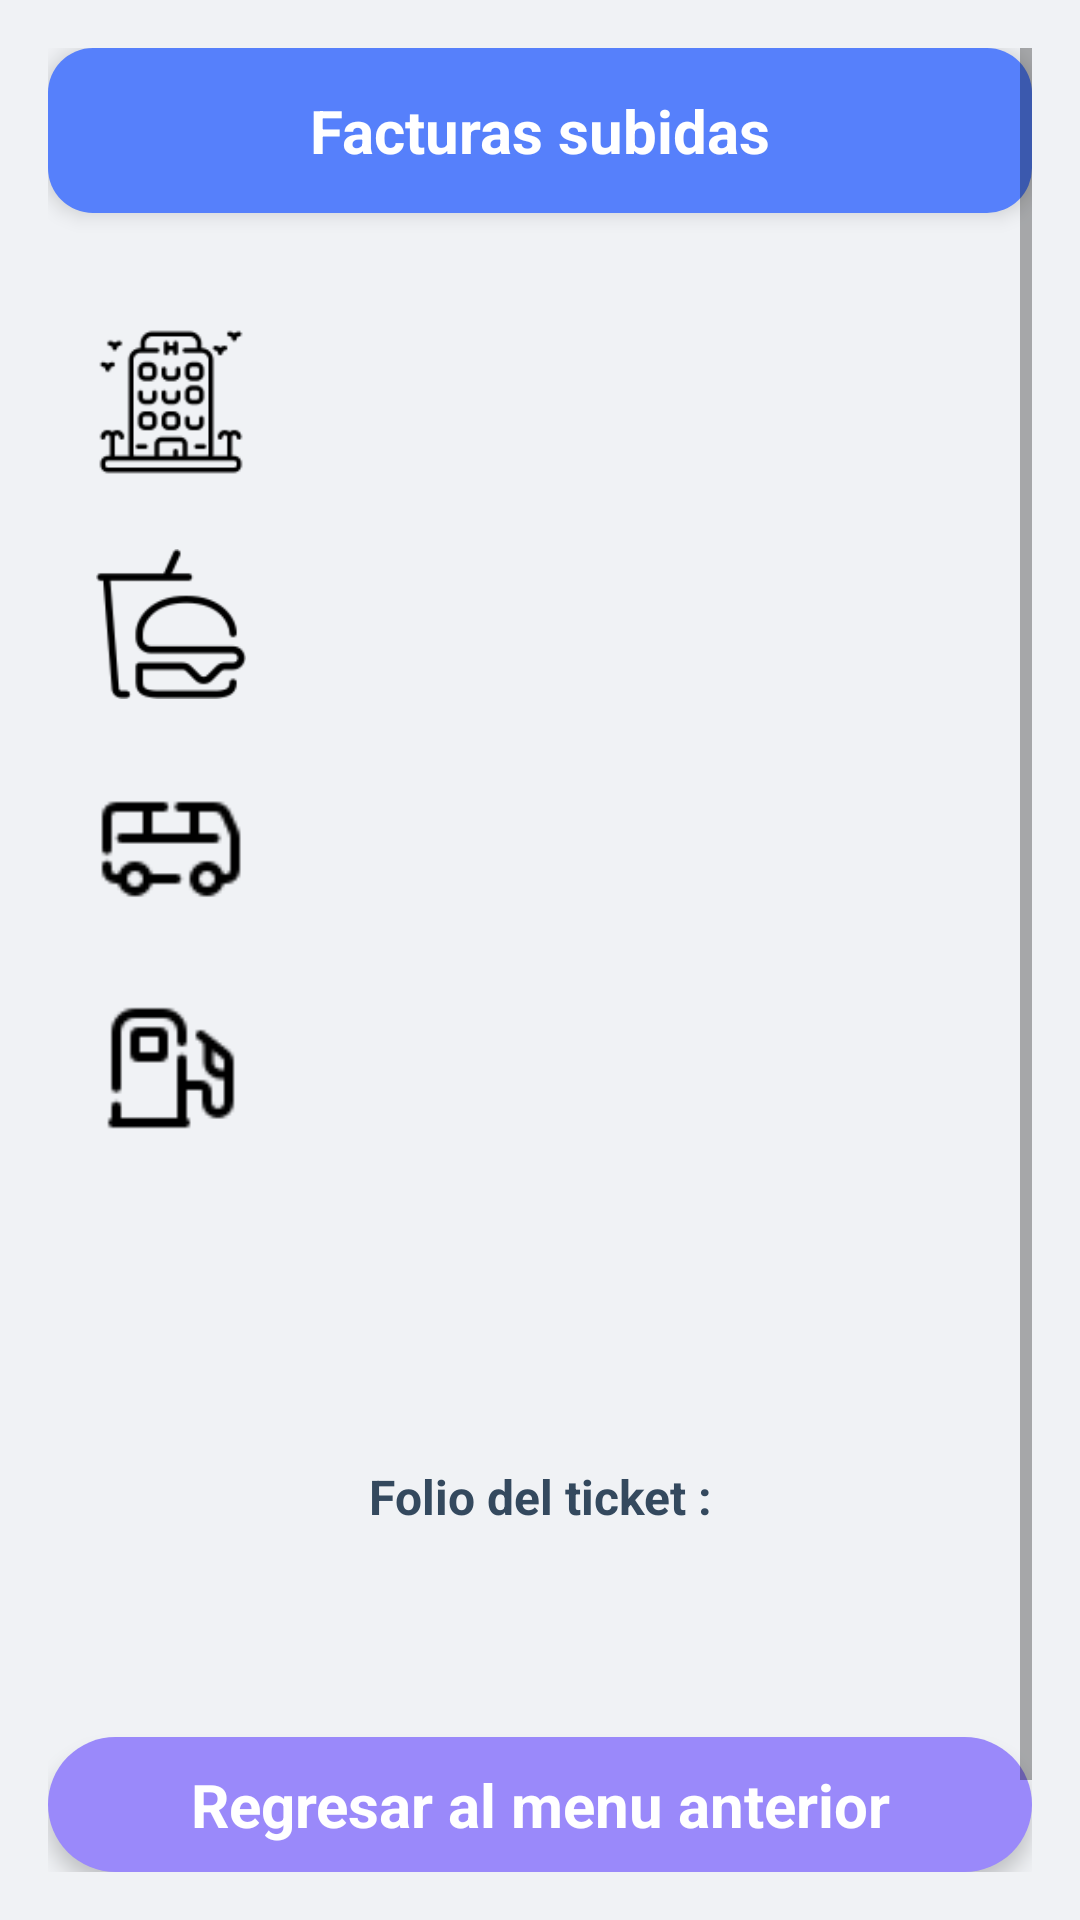

Where to tap for icons on this 1080w x 1920h app screen, as [x,y]:
comida: [171,624]
gasolina: [171,1068]
hotel: [171,402]
transporte: [171,849]
